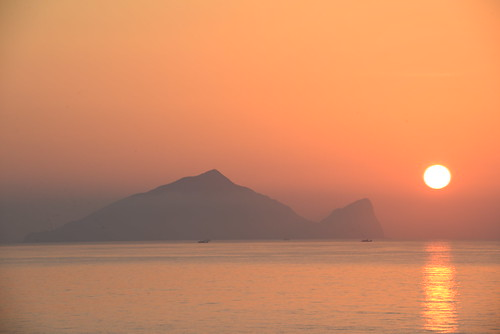turtleIsland: (9, 166, 390, 241)
